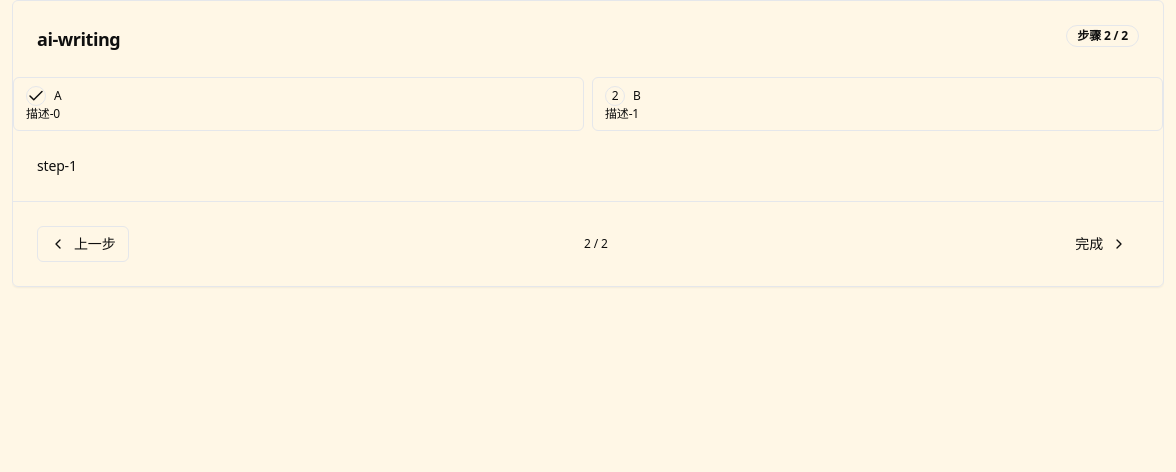
Test: Wizard — onComplete 与 doneActions › doneActions 在已完成视图里显示
This screenshot has width=1176, height=472.
Click the button "完成" at x=1101, y=244, box [1063,226,1139,262]
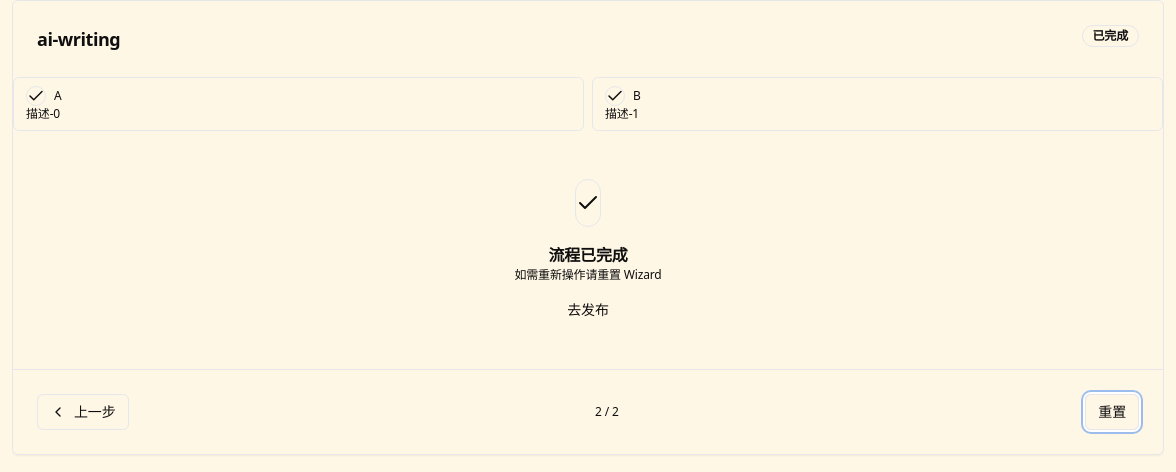
expect the button "去发布" is shown: met, box [567,299,609,320]
